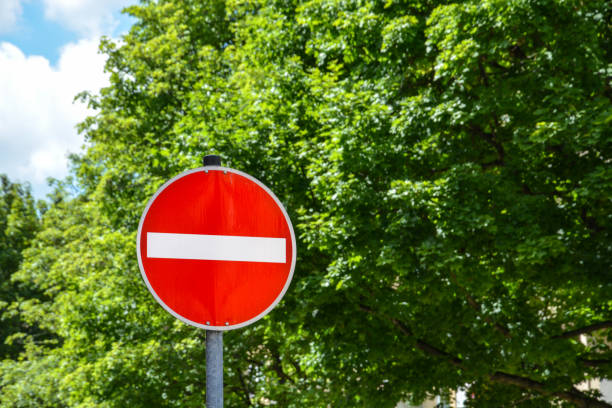Girilmez: (137, 165, 297, 328)
